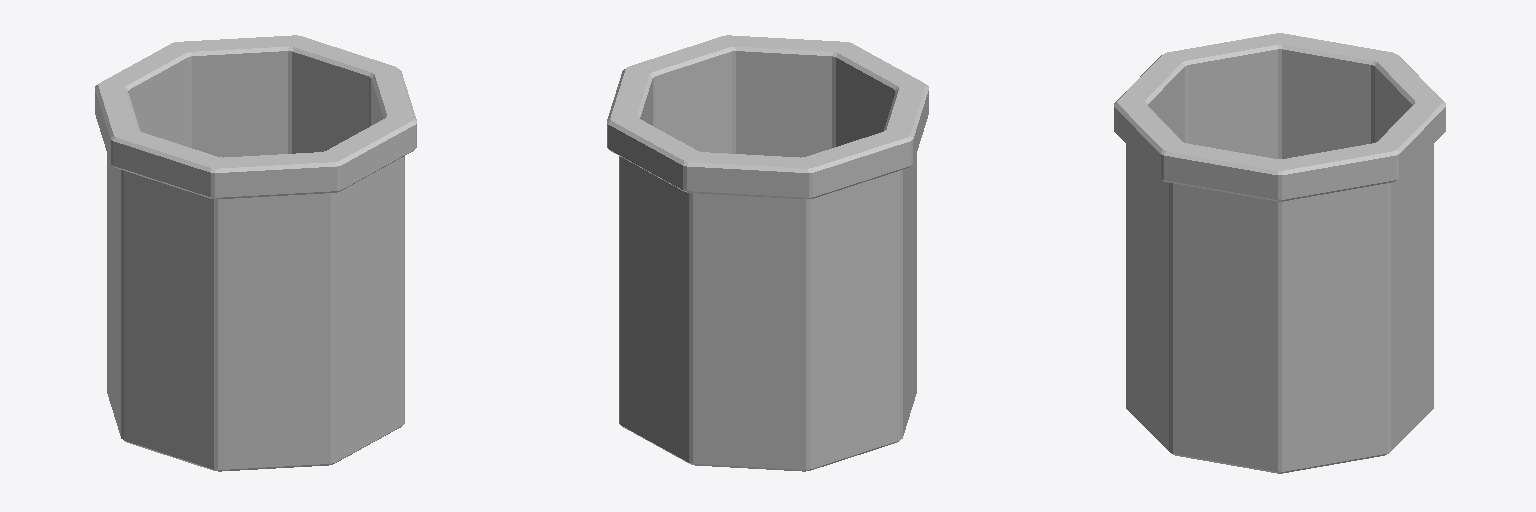
File: tong sampah hi.obj
3 views of the same model, side by side, from view 1: azimuth 30°, elevation 25°; view 2: azimuth 150°, elevation 25°; view 3: azimuth 270°, elevation 25° (orthographic).
Parts seen in each view (by area): view 1: pCylinder18; view 2: pCylinder18; view 3: pCylinder18.
Boxes of the visible parts, x1,y1,x2,y2 form: pCylinder18: [95, 35, 416, 471]; pCylinder18: [607, 35, 928, 471]; pCylinder18: [1114, 33, 1445, 473].
Size of the model in its own units: 0.7157 by 0.7306 by 0.7157.